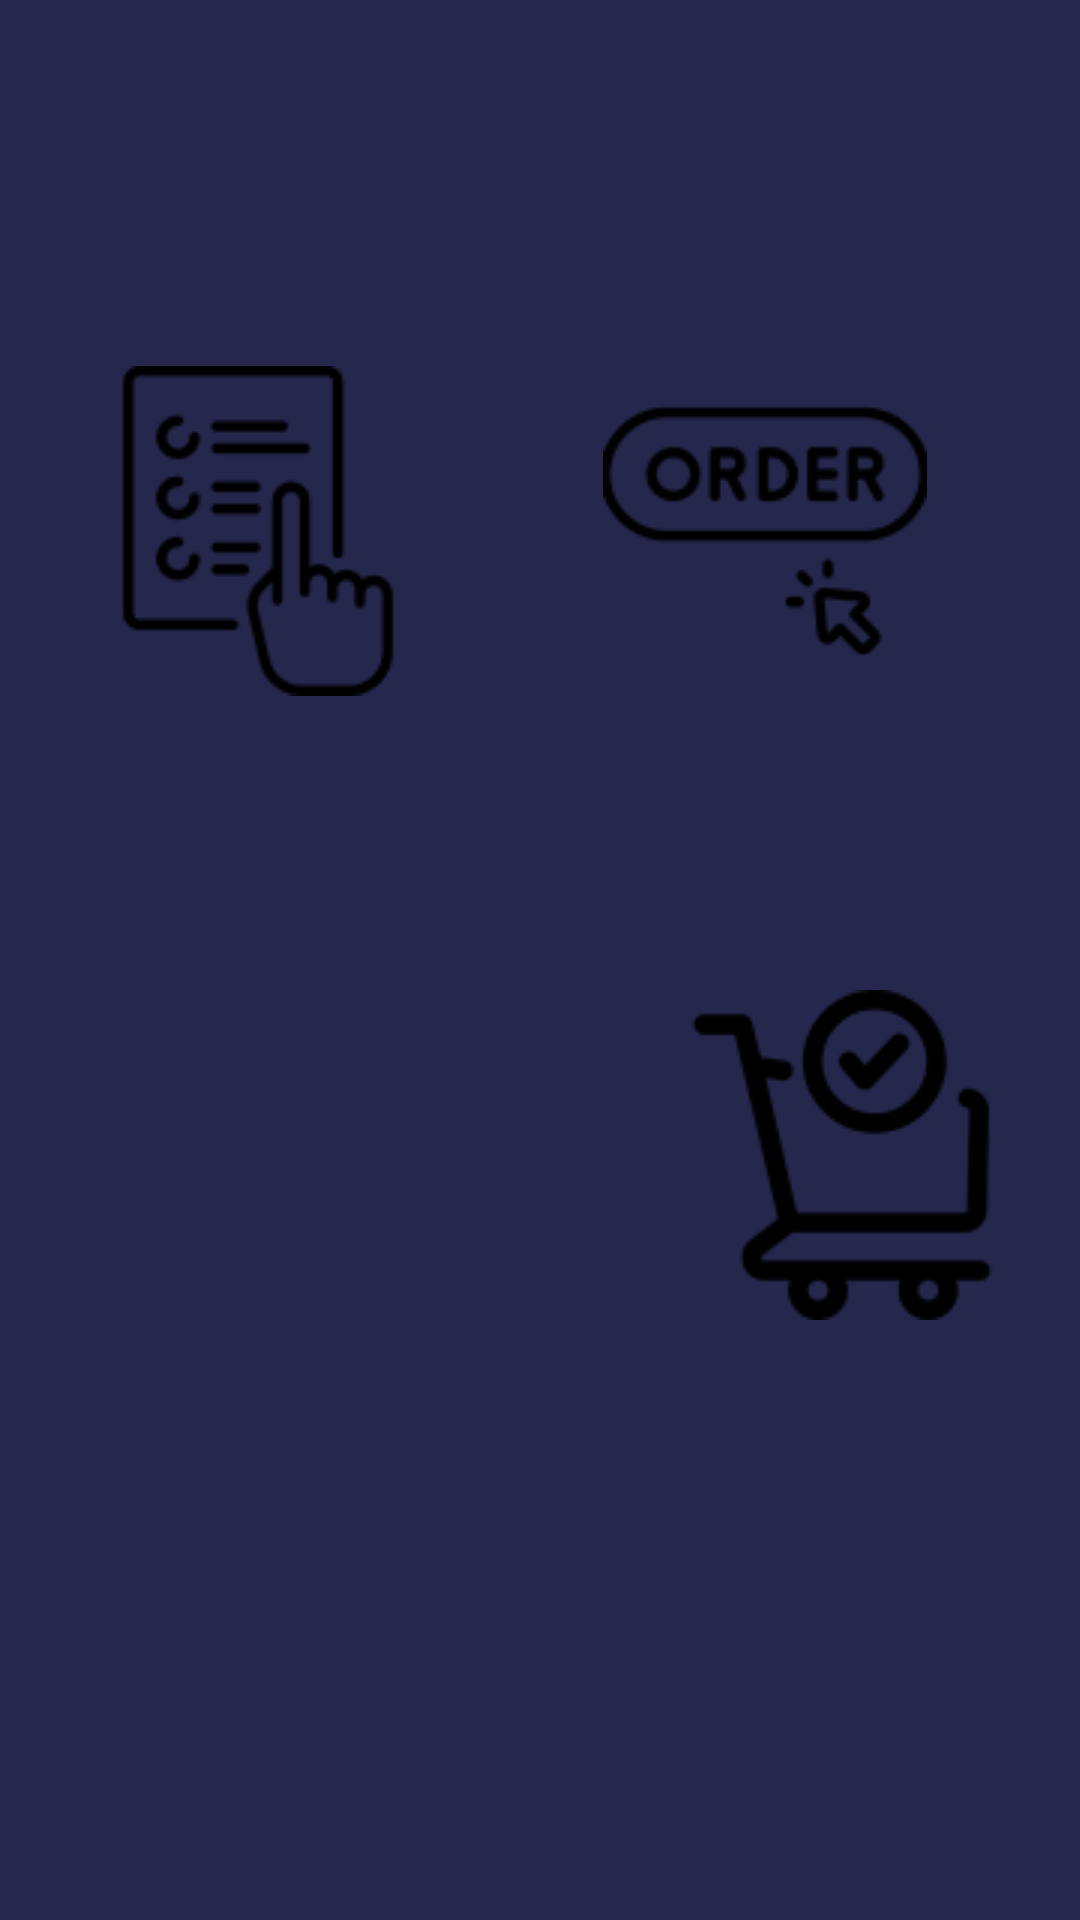

Named icons in this screenshot (1080×1920) and their bounding boxes, region(x1, y1, x2, y2):
cart: region(693, 990, 991, 1320)
catalog: region(123, 366, 393, 696)
